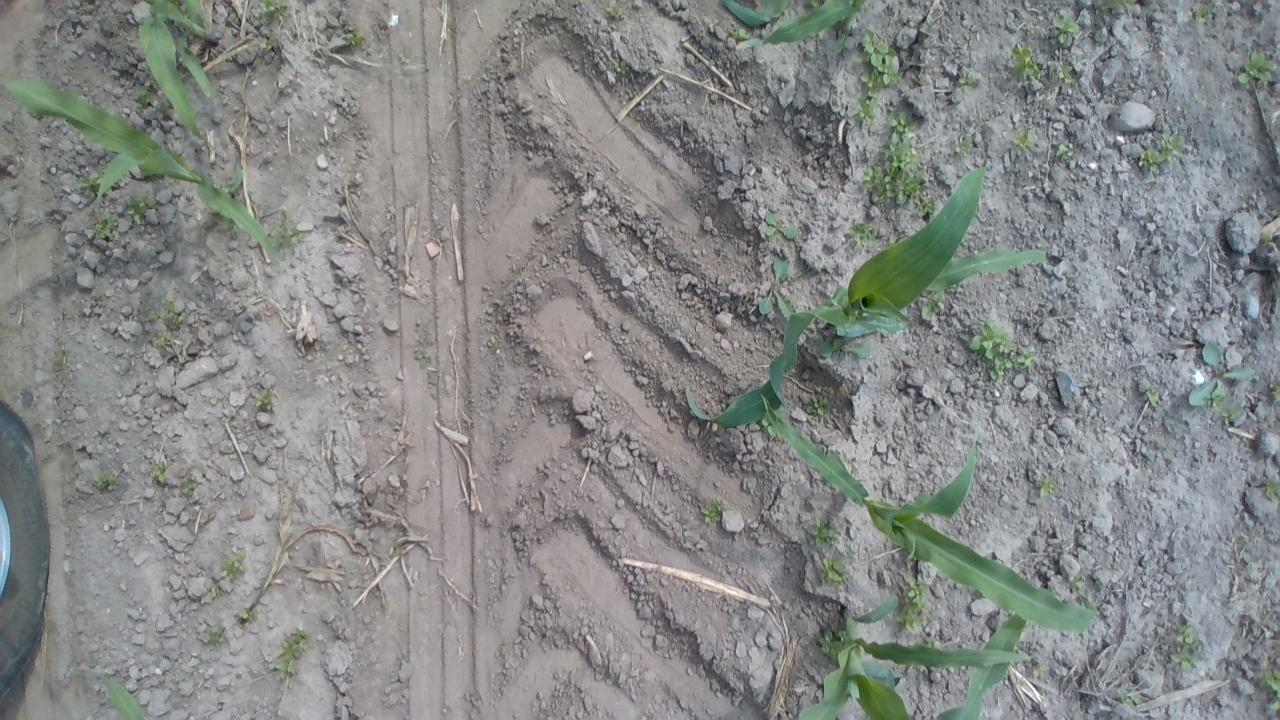Maize: (682, 159, 1048, 425), (749, 386, 1099, 644), (0, 72, 298, 276), (789, 591, 1039, 720), (132, 0, 230, 156), (711, 0, 870, 40)
Weeds: (857, 110, 939, 216), (1184, 339, 1258, 415), (852, 28, 906, 125), (966, 322, 1040, 382), (754, 255, 802, 330), (1134, 126, 1190, 174), (271, 627, 314, 682), (1164, 620, 1206, 670), (149, 298, 189, 350), (254, 210, 306, 250), (896, 577, 931, 635), (1234, 50, 1278, 92), (817, 335, 869, 366), (843, 218, 889, 252), (758, 209, 799, 245), (1005, 42, 1039, 84), (121, 195, 160, 230), (814, 552, 850, 588), (696, 496, 732, 532), (913, 291, 952, 324), (411, 346, 441, 388), (817, 629, 853, 663), (1042, 58, 1078, 90), (334, 18, 370, 50), (1257, 662, 1280, 712), (1049, 16, 1083, 49), (1036, 472, 1066, 509), (761, 406, 790, 444), (250, 0, 292, 26), (1006, 127, 1037, 162), (810, 518, 842, 550), (806, 393, 838, 424), (87, 210, 120, 240), (218, 548, 250, 578), (78, 169, 114, 195), (144, 459, 175, 489), (726, 25, 754, 56), (952, 63, 984, 90), (1257, 468, 1280, 505), (244, 386, 278, 411), (1054, 138, 1080, 170), (89, 469, 120, 494), (196, 624, 227, 648), (134, 81, 158, 112), (1026, 656, 1057, 679), (1068, 575, 1094, 601), (1140, 385, 1166, 410), (182, 470, 202, 500), (950, 129, 974, 154), (479, 331, 505, 354), (1192, 4, 1224, 22), (1096, 0, 1140, 13), (238, 608, 264, 629), (50, 344, 69, 369), (612, 60, 636, 79), (1124, 688, 1145, 708), (1266, 379, 1280, 406), (396, 46, 414, 64), (607, 4, 624, 23), (204, 576, 220, 596), (716, 245, 730, 260)
